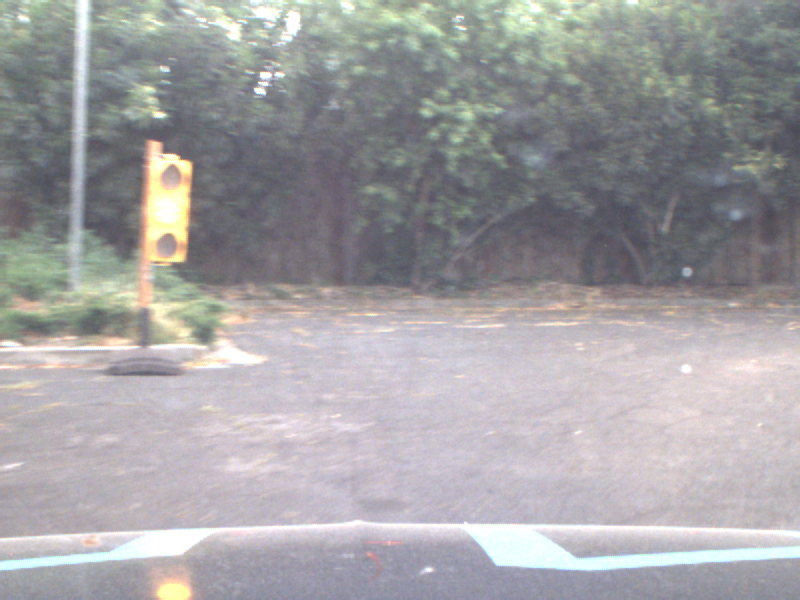Yellow: (145, 153, 186, 260)
